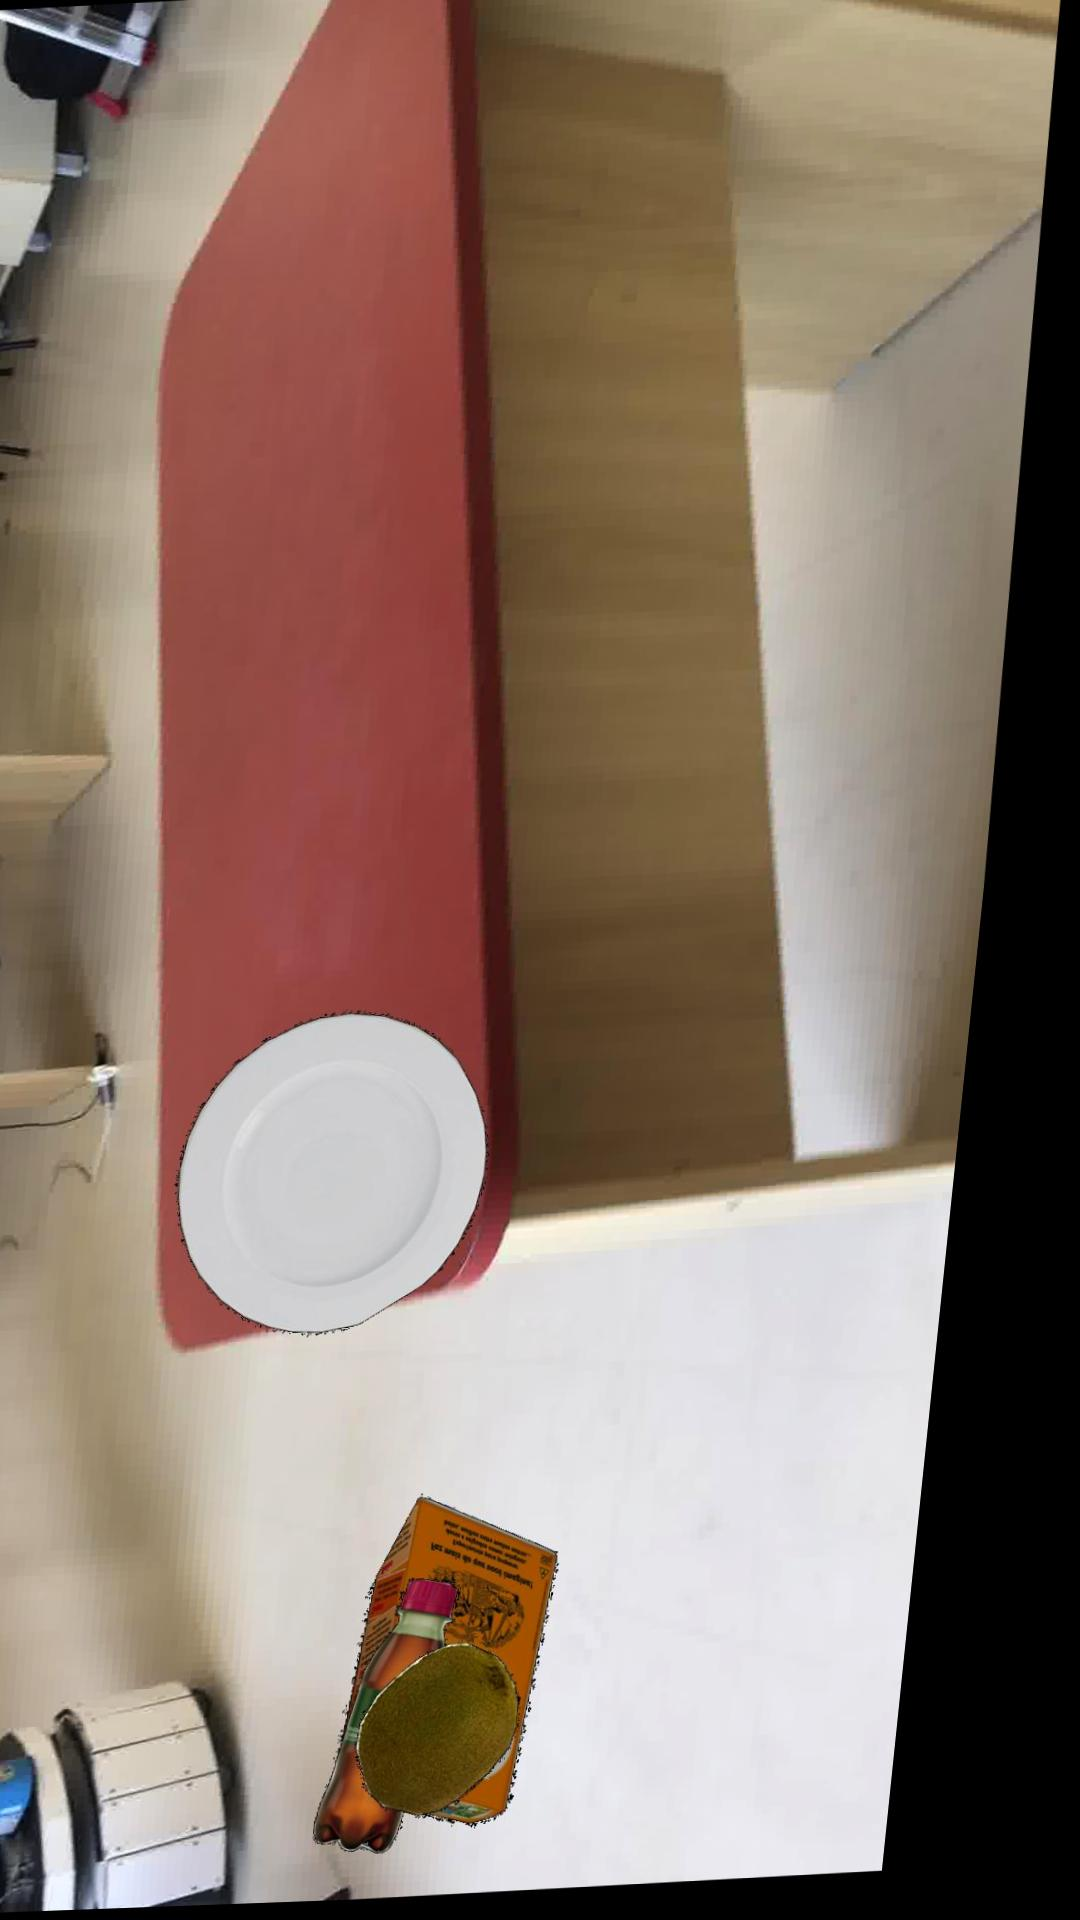guarana: (353, 1584, 496, 1858)
kiwi: (394, 1648, 558, 1821)
plate: (204, 1015, 514, 1337)
